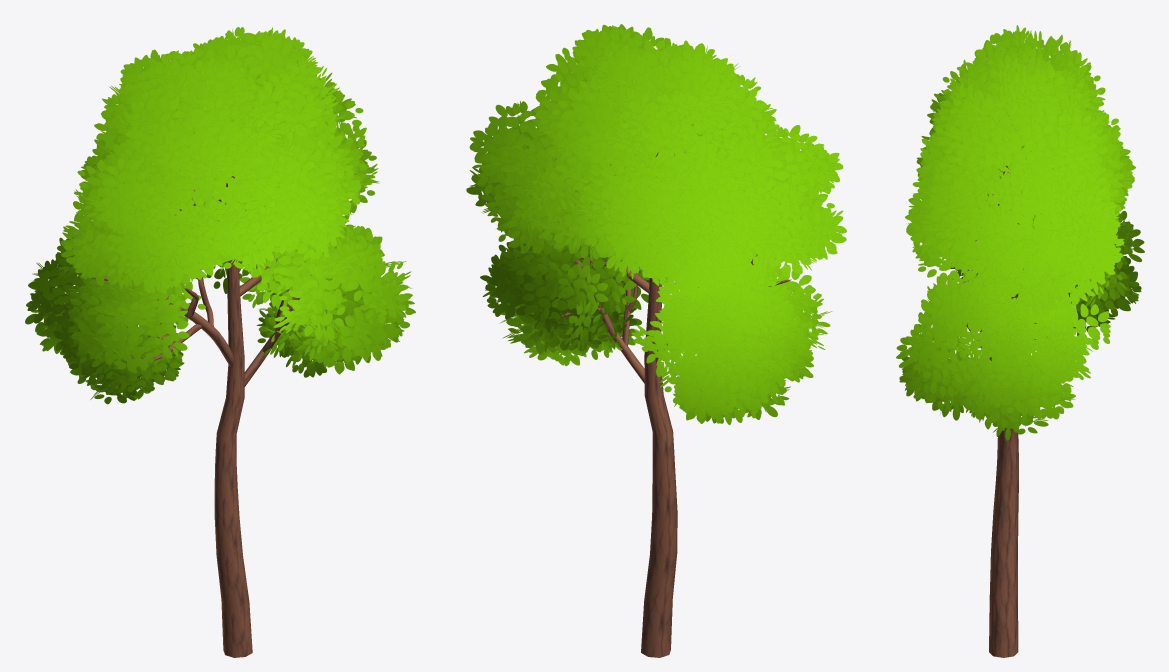
File: tree.gltf
3 views of the same model, side by side, from view 1: azimuth 30°, elevation 25°; view 2: azimuth 150°, elevation 25°; view 3: azimuth 270°, elevation 25° (orthographic). The views are drawn at different scales.
Visible parts, largest first — view 1: NormalTree_1; view 2: NormalTree_1; view 3: NormalTree_1.
Part boxes in pixels (bbox=[...]): NormalTree_1: bbox=[25, 27, 415, 657]; NormalTree_1: bbox=[466, 24, 846, 657]; NormalTree_1: bbox=[896, 25, 1144, 657].
Bounding box in the file's own units: 4.05 × 6.87 × 2.74.
Materials: 2 (2 with a texture image).
